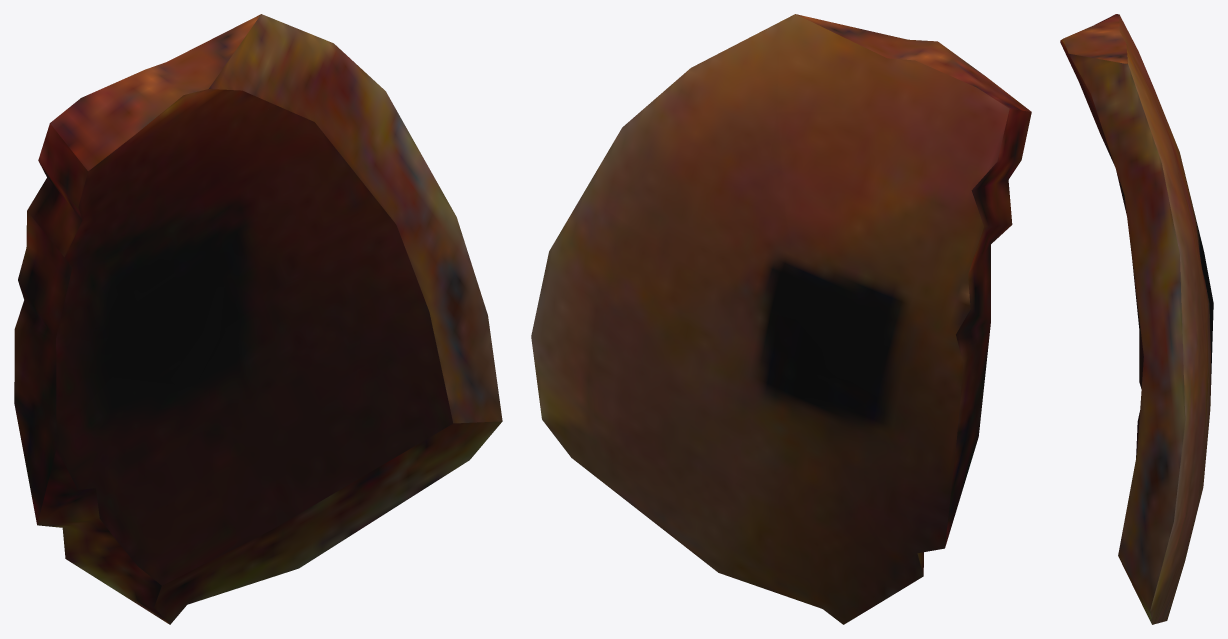
File: Ceramic016.gltf
3 views of the same model, side by side, from view 1: azimuth 30°, elevation 25°; view 2: azimuth 150°, elevation 25°; view 3: azimuth 270°, elevation 25° (orthographic). The views are drawn at different scales.
Parts seen in each view (by area): view 1: Ceramic016_005, Ceramic016_004, Ceramic016_002, Ceramic016_001, Ceramic016_003, Ceramic016; view 2: Ceramic016_005, Ceramic016_003, Ceramic016_004, Ceramic016_001, Ceramic016_002, Ceramic016; view 3: Ceramic016_004, Ceramic016_003, Ceramic016_005, Ceramic016_002, Ceramic016_001.
Part boxes in pixels (bbox=[...]): Ceramic016_005: bbox=[18, 14, 271, 341]; Ceramic016_004: bbox=[224, 154, 502, 439]; Ceramic016_002: bbox=[201, 330, 486, 599]; Ceramic016_001: bbox=[14, 279, 250, 568]; Ceramic016_003: bbox=[200, 18, 420, 292]; Ceramic016: bbox=[80, 359, 223, 624]; Ceramic016_005: bbox=[777, 14, 1031, 351]; Ceramic016_003: bbox=[586, 22, 798, 319]; Ceramic016_004: bbox=[531, 189, 773, 437]; Ceramic016_001: bbox=[749, 307, 990, 583]; Ceramic016_002: bbox=[556, 357, 809, 604]; Ceramic016: bbox=[787, 385, 911, 624]; Ceramic016_004: bbox=[1118, 313, 1211, 616]; Ceramic016_003: bbox=[1104, 79, 1209, 336]; Ceramic016_005: bbox=[1060, 14, 1208, 291]; Ceramic016_002: bbox=[1127, 350, 1211, 624]; Ceramic016_001: bbox=[1132, 262, 1213, 457].
Size of the model in its own units: 0.0802 by 0.0989 by 0.0249.
1 material, 1 textured.
